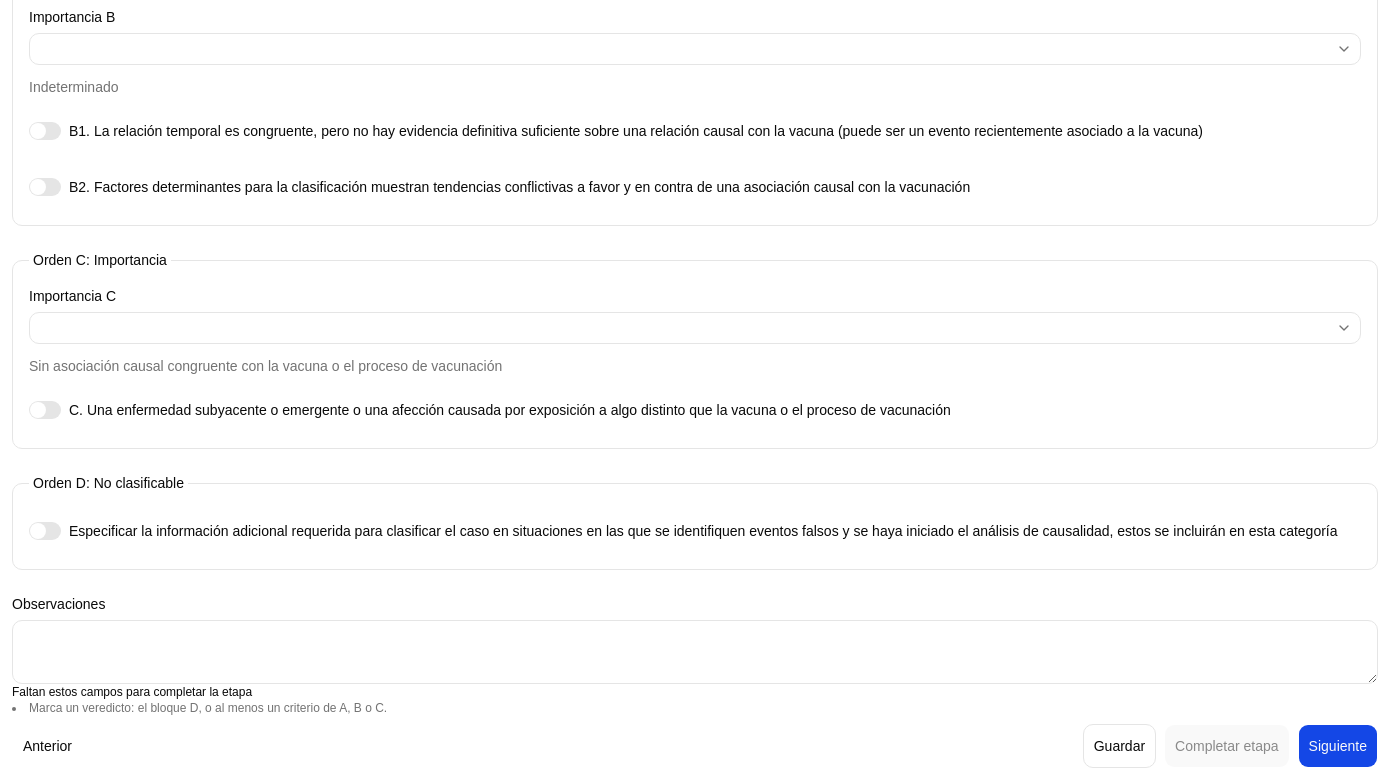
it: FinalClassificationStep — guardar (SPEC FE14a §4 paso 8) › CASEFLOW_012_CASE_CLOSED deja el asistente en sólo lectura por la relectura del 006
(page scrolled)
Click the button "Guardar".
click(1119, 746)  # box [1083,724,1156,767]
(page scrolled)
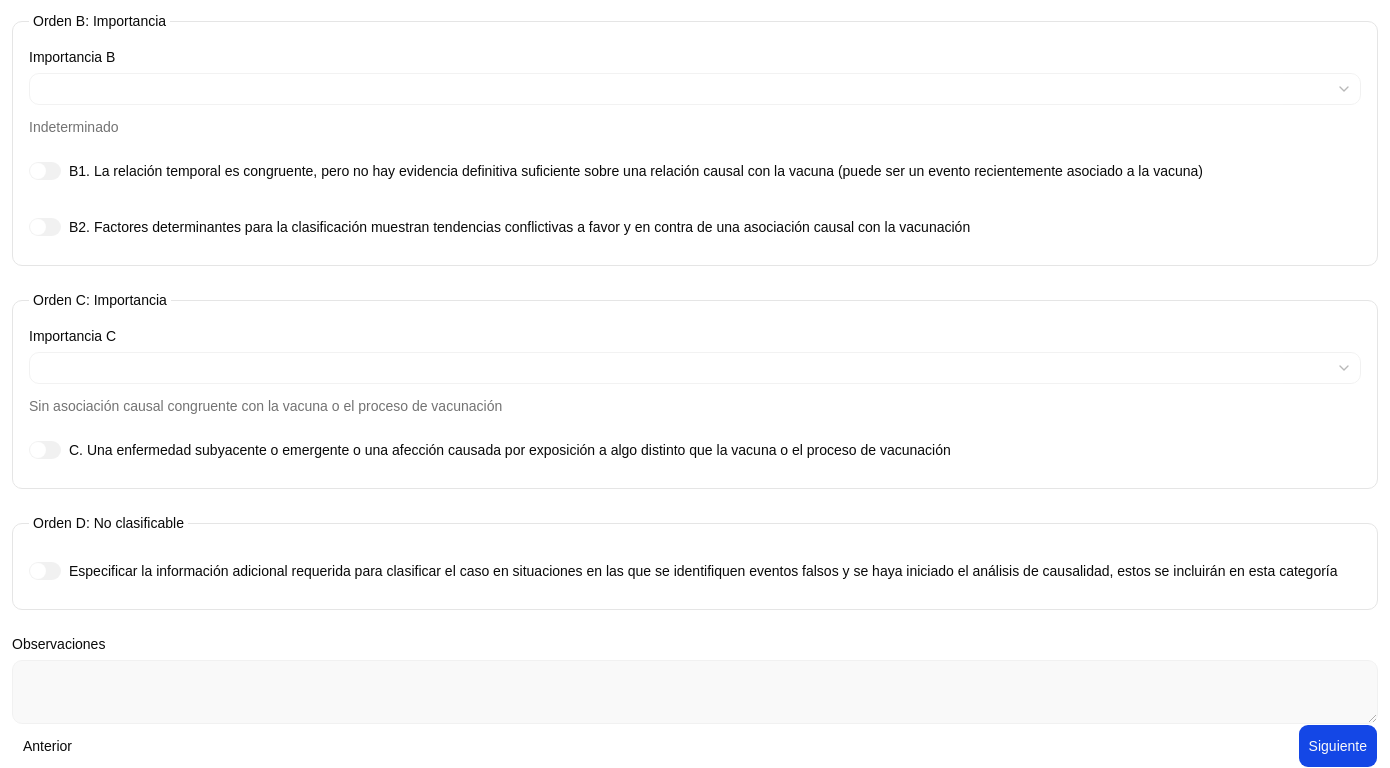
Check: the button "Guardar" is gone
